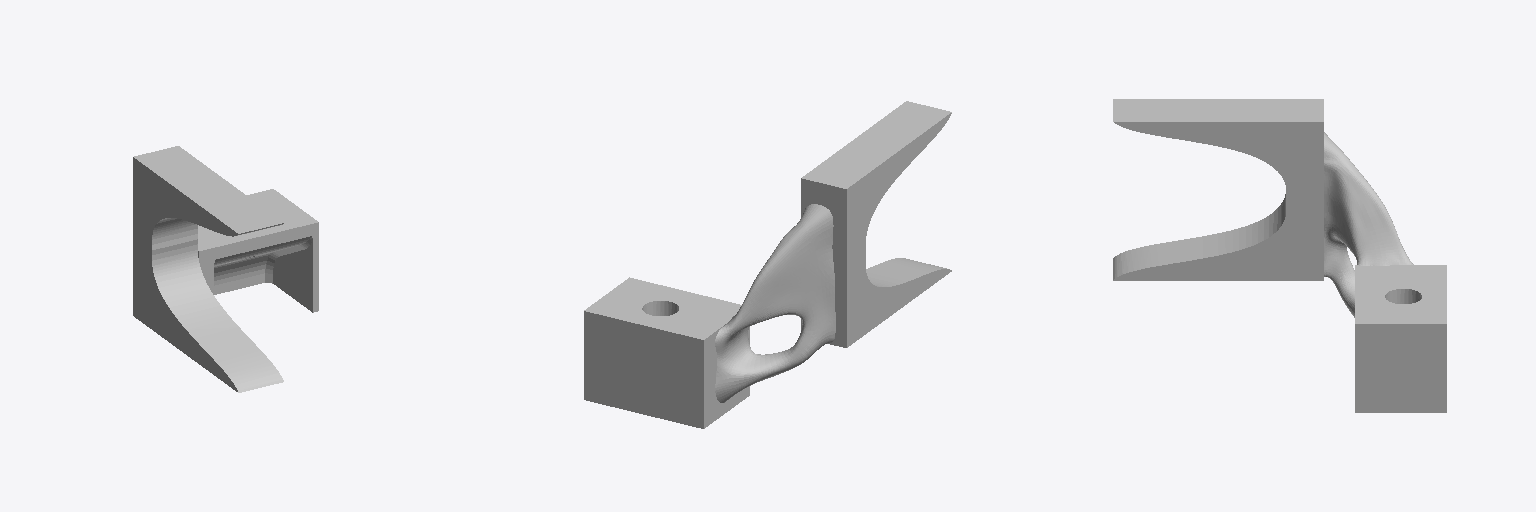
Rendered from gripper_modification_left_v3.obj.
3 renders of one model, left to right at view 1: azimuth 30°, elevation 25°; view 2: azimuth 150°, elevation 25°; view 3: azimuth 270°, elevation 25°, orthographic.
Visible parts, largest first — view 1: Greifer_v3_links; view 2: Greifer_v3_links; view 3: Greifer_v3_links.
Part boxes in pixels (x1,y1,x2,y2): Greifer_v3_links: (133,146,318,392); Greifer_v3_links: (584,101,951,428); Greifer_v3_links: (1113,99,1446,412).
Bounding box in the file's own units: 33.16 × 33.79 × 47.52.